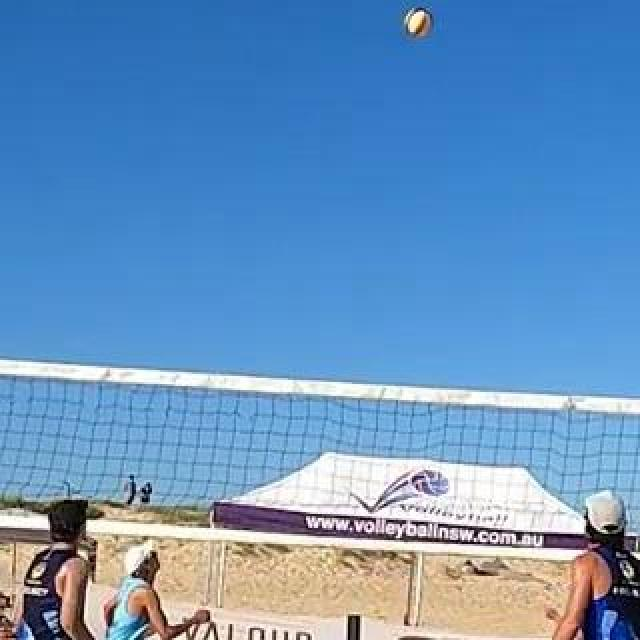volleyball: (404, 10, 432, 38)
